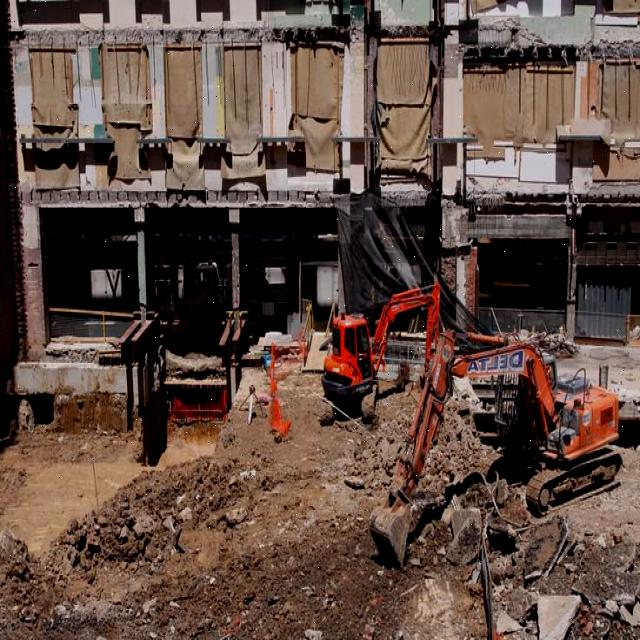Excavator: (370, 346, 625, 571), (319, 280, 442, 430)
